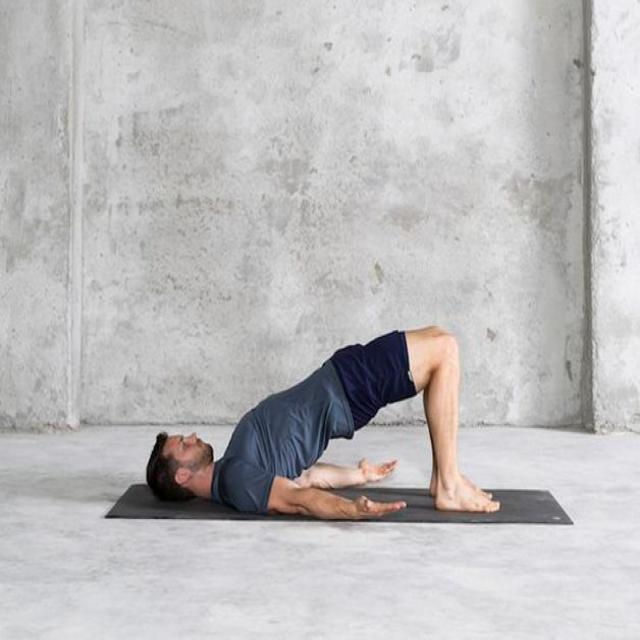yoga-pose bridge: (134, 320, 510, 521)
